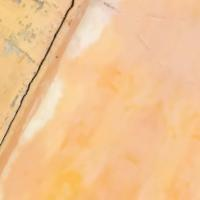crack: (1, 0, 80, 171)
